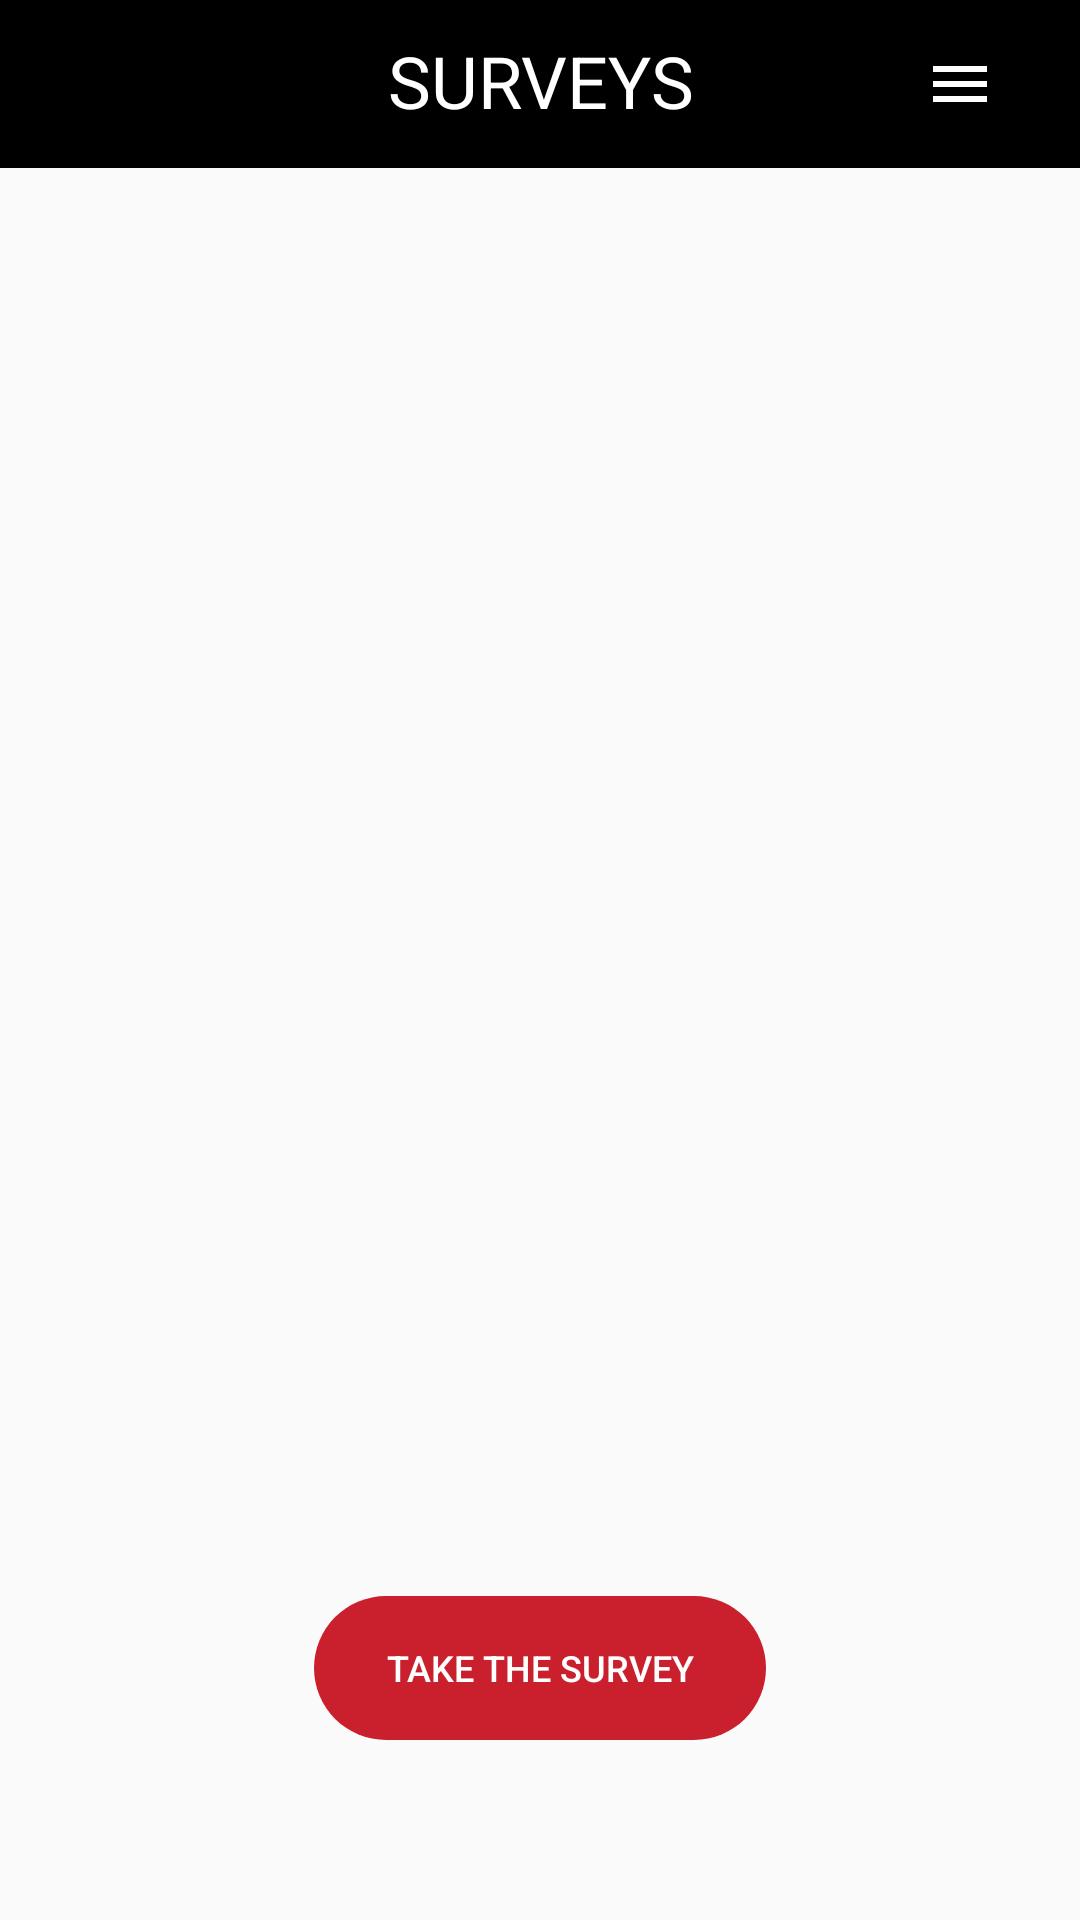

Named icons in this screenshot (1080 x 1920) and their bounding boxes, (x1, y1, x2, y2):
Menu: (933, 66, 987, 102)
